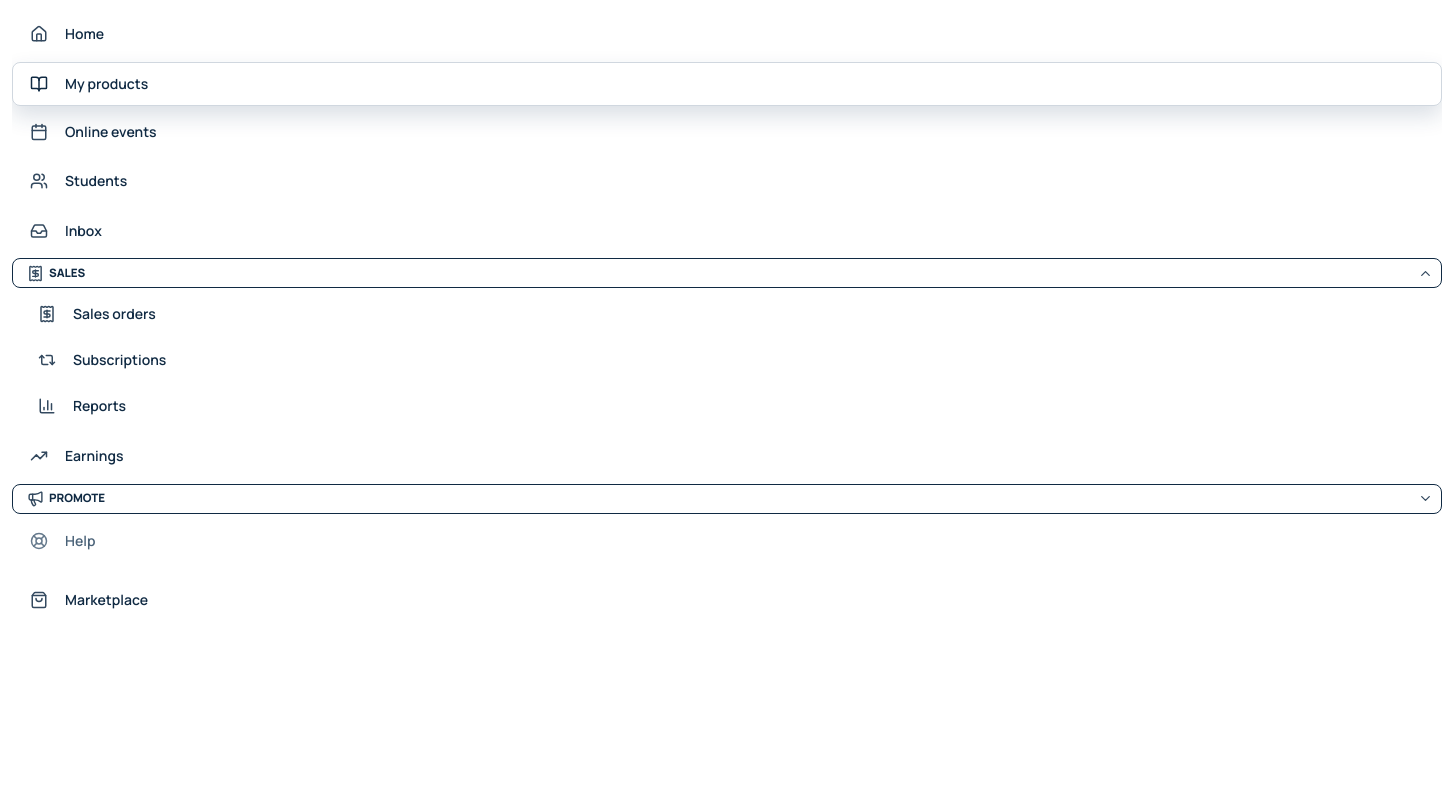
Scenario: creator shell regressions › abre o primeiro grupo e deixa vários grupos abertos ao mesmo tempo
Expected: the link "Subscriptions" is shown, [38,350,166,369]
Click the button "Promote" at (77, 498), box [12,484,1442,514]
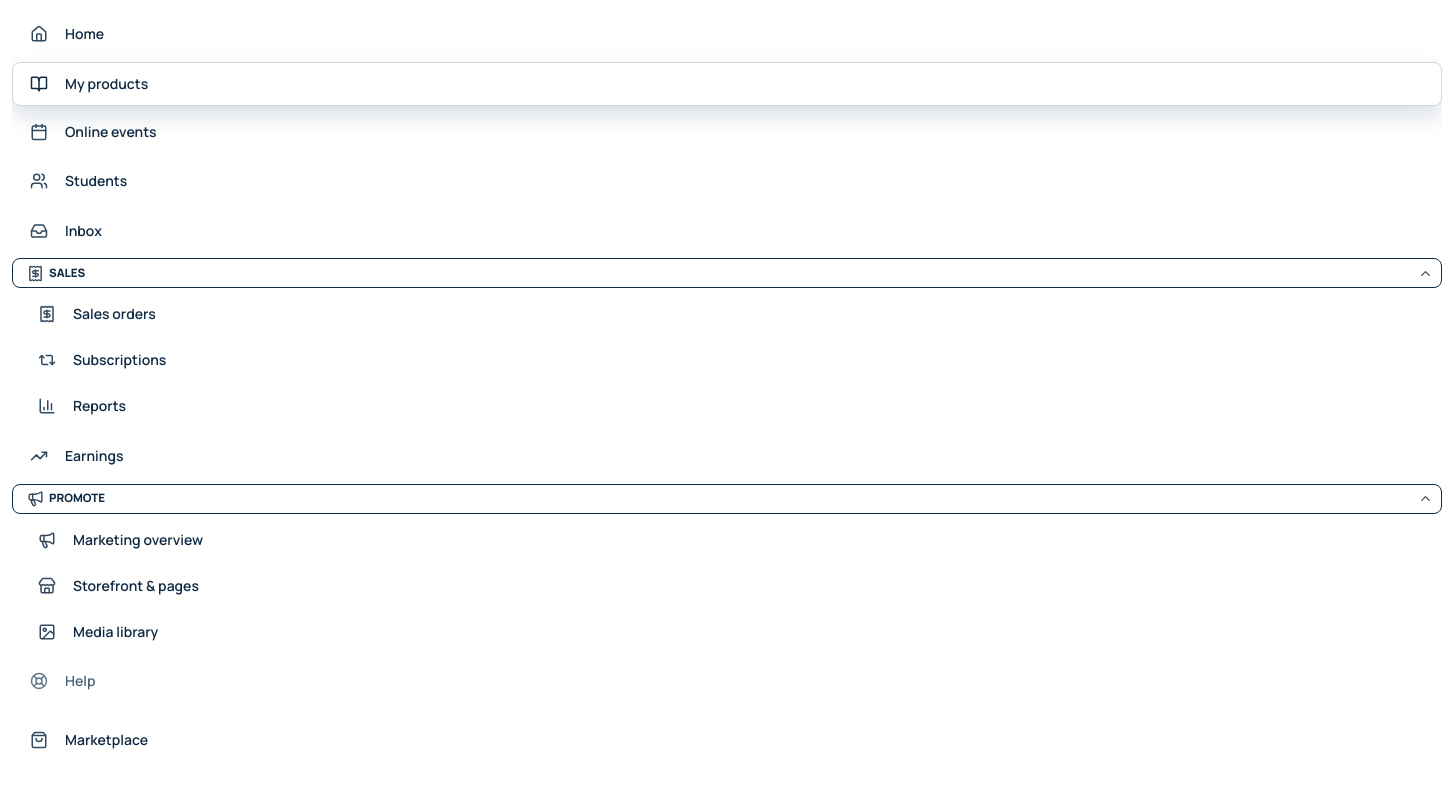
Expected: the link "Subscriptions" is shown, [38,350,166,369]
Result: the button "Promote" is expanded at [12,484,1442,514]
Result: the link "Marketing overview" is shown at [38,530,203,549]
